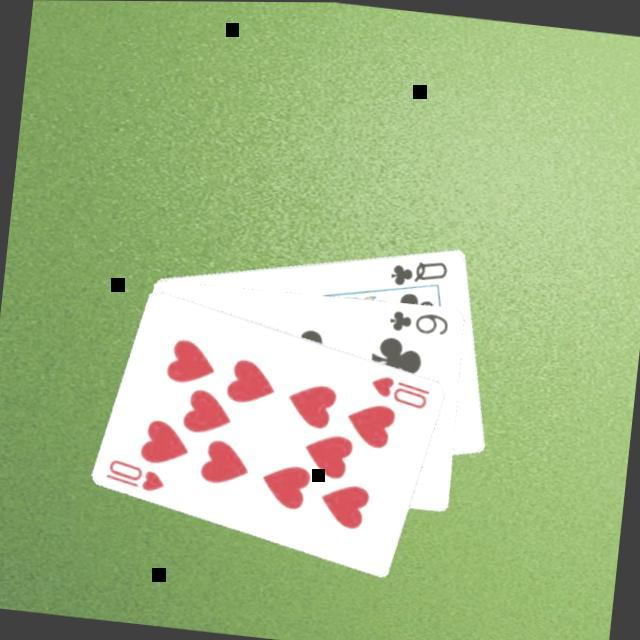10H: (367, 370, 434, 411), (103, 453, 170, 494)
6C: (386, 302, 454, 338)
QC: (387, 250, 452, 290)
